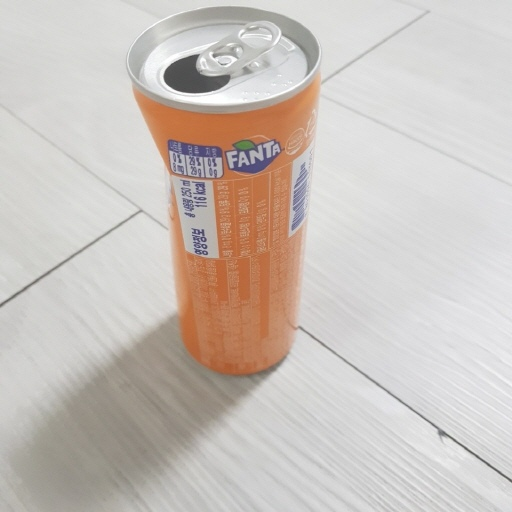Metal_0: (126, 6, 325, 378)
